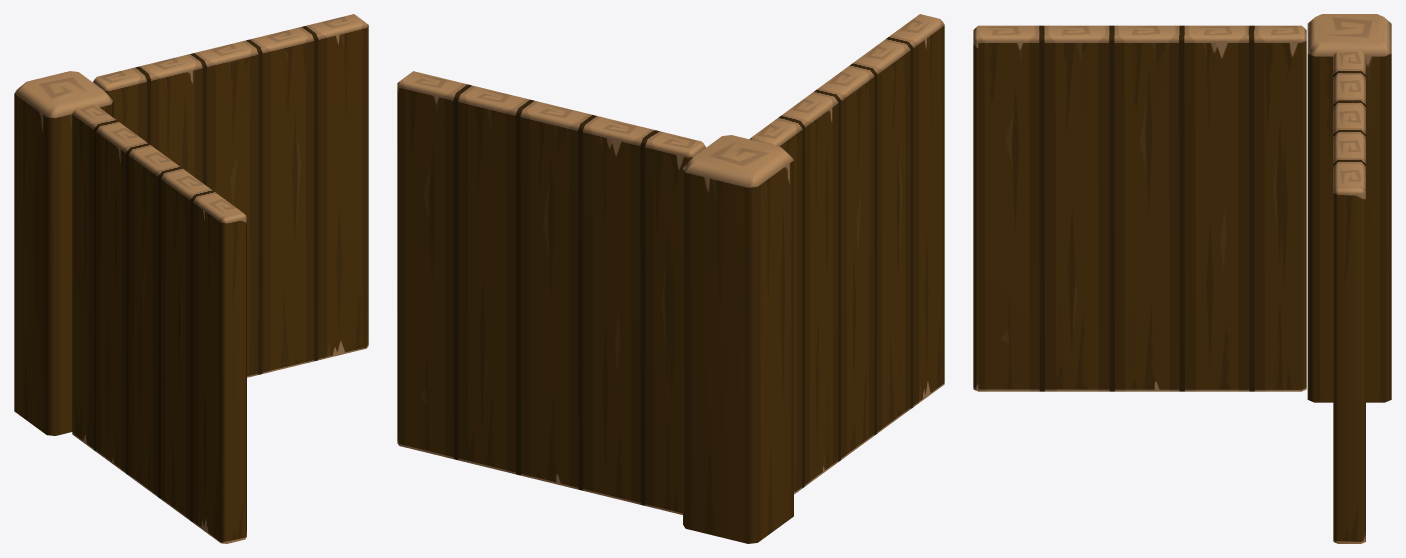
Rendered from mod_med_maze_wall_a_corn_01.fbx.
3 views of the same model, side by side, from view 1: azimuth 30°, elevation 25°; view 2: azimuth 150°, elevation 25°; view 3: azimuth 270°, elevation 25° (orthographic). The views are drawn at different scales.
Visible parts, largest first — view 1: mod_med_maze_wall_a_corn_01; view 2: mod_med_maze_wall_a_corn_01; view 3: mod_med_maze_wall_a_corn_01.
Boxes of the visible parts, x1,y1,x2,y2 form: mod_med_maze_wall_a_corn_01: (14,14,368,543); mod_med_maze_wall_a_corn_01: (397,14,944,543); mod_med_maze_wall_a_corn_01: (973,14,1391,543).
Size of the model in its own units: 12.41 by 11.67 by 12.41.
